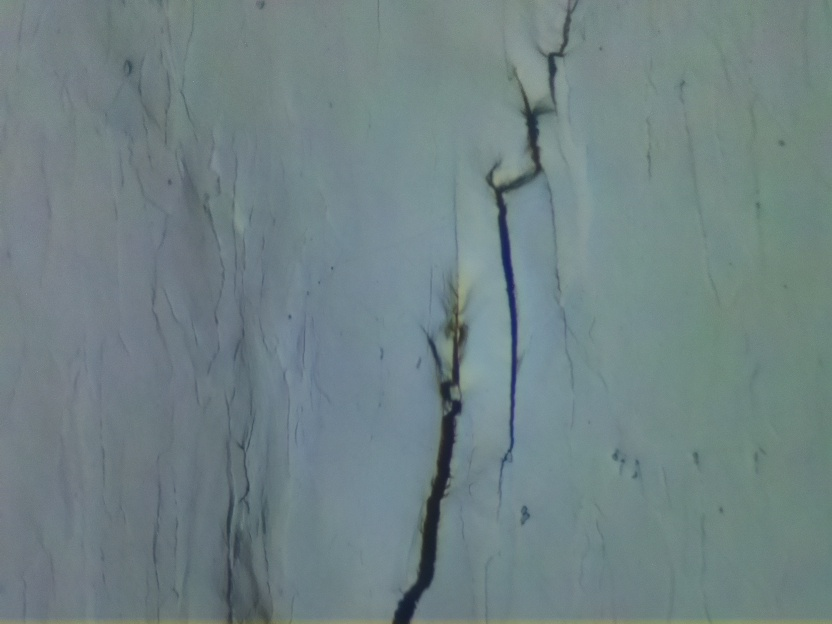crack: (487, 0, 579, 511), (389, 268, 471, 624)
